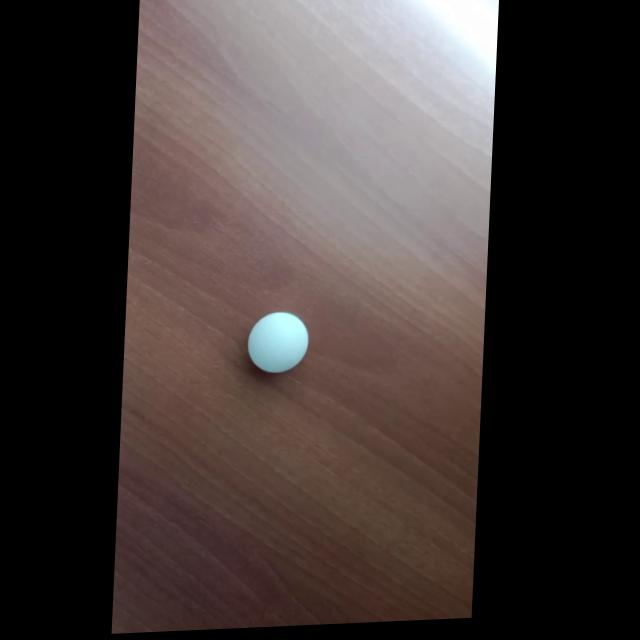white ball: (246, 310, 311, 374)
